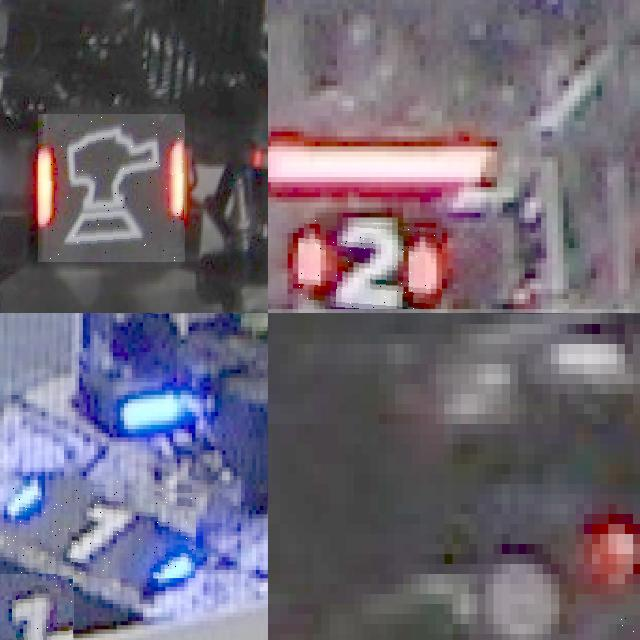B1: (4, 481, 196, 578), (0, 574, 75, 640)
R2: (298, 218, 442, 309)
Rs: (38, 114, 186, 262)
